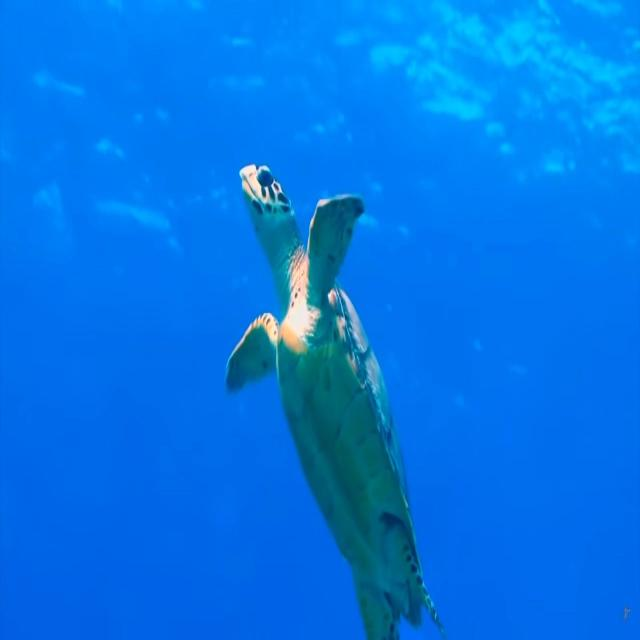Sea turtle: (223, 158, 447, 640)
